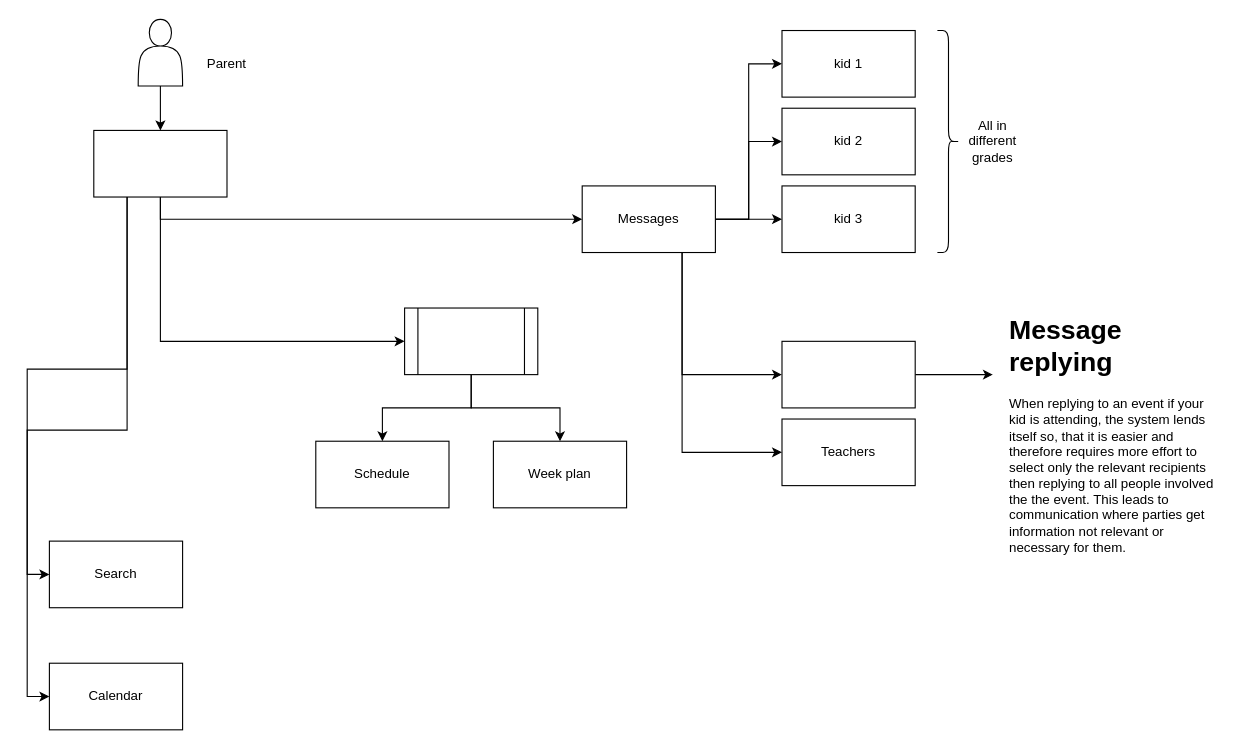
Some shapes in this 1245 by 749 pixel diagram are drawn without their labels. The shapes that lost their labels are listed below. From the top down, each one's centre as x and y in pixels, then its label:
the point at 160,163: Aula
the point at 470,341: Min Uddannelse
the point at 848,374: Other parents
